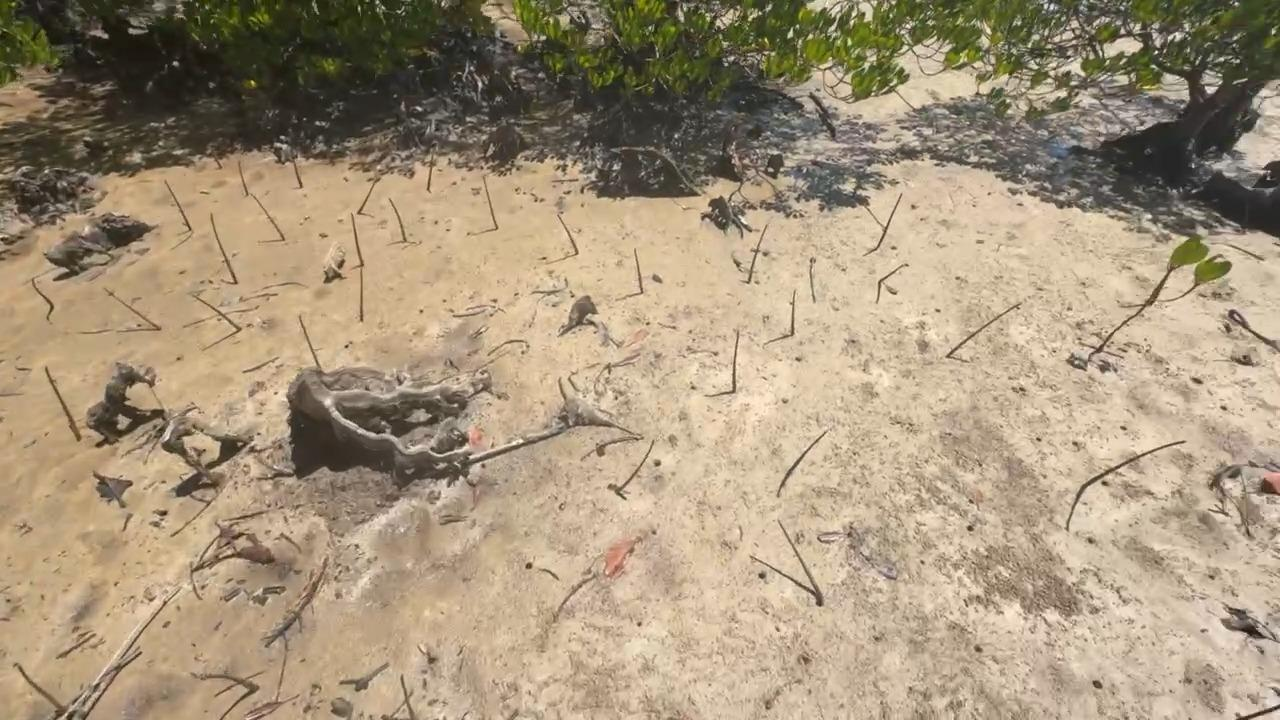Tree: (1085, 440, 1189, 486), (945, 301, 1023, 358), (777, 518, 824, 607), (779, 429, 828, 488), (44, 366, 82, 442), (102, 285, 162, 332), (15, 661, 67, 714), (191, 292, 244, 333), (210, 212, 238, 285), (617, 439, 654, 491), (250, 190, 285, 242), (875, 192, 903, 252), (164, 178, 192, 232), (747, 223, 769, 283), (298, 314, 322, 368), (201, 671, 259, 693), (557, 213, 579, 256), (357, 176, 381, 213), (483, 176, 499, 230), (388, 197, 407, 242), (30, 275, 54, 308), (350, 212, 364, 267), (400, 674, 416, 720), (878, 263, 910, 283), (290, 153, 303, 189), (634, 248, 644, 294), (732, 330, 739, 394), (236, 160, 248, 196), (790, 289, 797, 335), (426, 151, 434, 191), (359, 265, 364, 322), (211, 146, 222, 168)
